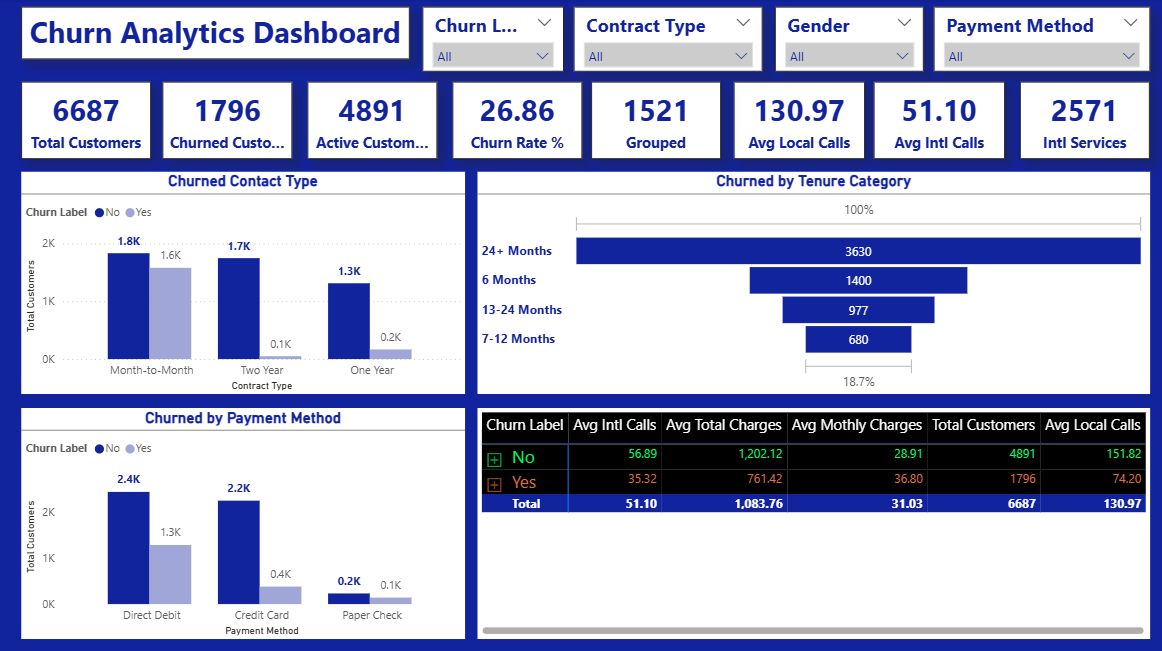

This screenshot's page, from the dashboard's own definition file:
{"tool":"powerbi","page":{"name":"Churn Analytics","canvas":[1280,720],"ordinal":0},"visuals":[{"type":"textbox","box":[23.3,9.6,426.8,57.6],"z":0},{"type":"slicer","fields":{"Values":["Databel - Data.Churn Label"]},"box":[463.8,9.6,155.1,71.4],"z":1000},{"type":"slicer","fields":{"Values":["Databel - Data.Contract Type"]},"box":[629.8,9.6,207.2,71.4],"z":2000},{"type":"slicer","fields":{"Values":["Databel - Data.Gender"]},"box":[850.8,9.6,163.3,71.4],"z":3000},{"type":"slicer","fields":{"Values":["Databel - Data.Payment Method"]},"box":[1025,9.6,237.4,71.4],"z":4000},{"type":"card","fields":{"Values":["Databel - Data.Total Customers"]},"box":[23.3,91.9,142.7,85.1],"z":5000},{"type":"card","fields":{"Values":["Databel - Data.Churned Customers"]},"box":[178.4,91.9,142.7,85.1],"z":6000},{"type":"card","fields":{"Values":["Databel - Data.Active Customers"]},"box":[337.6,91.9,142.7,85.1],"z":7000},{"type":"card","fields":{"Values":["Databel - Data.Churn Rate %"]},"box":[496.7,91.9,142.7,85.1],"z":8000},{"type":"card","fields":{"Values":["Databel - Data.Avg Local Calls"]},"box":[805.5,91.9,144.1,85.1],"z":9000},{"type":"card","fields":{"Values":["Databel - Data.Avg Intl Calls"]},"box":[959.2,91.9,144.1,85.1],"z":10000},{"type":"card","fields":{"Values":["Databel - Data.Intl Services"]},"box":[1119.7,91.9,142.7,85.1],"z":11000},{"type":"card","fields":{"Values":["Databel - Data.Grouped"]},"box":[649.1,91.9,142.7,85.1],"z":12000},{"type":"clusteredColumnChart","title":"Churned Contact Type","fields":{"Category":["Databel - Data.Contract Type"],"Y":["Databel - Data.Total Customers"],"Series":["Databel - Data.Churn Label"]},"box":[23.3,190.7,487.1,244.3],"z":13000},{"type":"clusteredColumnChart","title":"Churned by Payment Method","fields":{"Y":["Databel - Data.Total Customers"],"Series":["Databel - Data.Churn Label"],"Category":["Databel - Data.Payment Method"]},"box":[23.3,450.1,487.1,253.9],"z":14000},{"type":"funnel","title":"Churned by Tenure Category","fields":{"Category":["Databel - Data.Tenure Category"],"Y":["Databel - Data.Total Customers"]},"box":[524.2,190.7,738.3,244.3],"z":15000},{"type":"pivotTable","title":"Churned by Payment Method","fields":{"Rows":["Databel - Data.Churn Label","Databel - Data.Contract Type","Databel - Data.Gender"],"Values":["Databel - Data.Avg Intl Calls","Databel - Data.Avg Total Charges","Databel - Data.Avg Mothly Charges","Databel - Data.Total Customers","Databel - Data.Avg Local Calls"]},"box":[524.2,450.1,738.3,253.9],"z":16000}]}

Visuals, with their boxes in screenshot pixels (x1, y1, x2, y2), scaled from the page's 1280x720 canvas onto the 1162x651 screenshot:
textbox: (21, 9, 409, 61)
slicer - Databel - Data.Churn Label: (421, 9, 562, 73)
slicer - Databel - Data.Contract Type: (572, 9, 760, 73)
slicer - Databel - Data.Gender: (772, 9, 921, 73)
slicer - Databel - Data.Payment Method: (931, 9, 1146, 73)
card - Databel - Data.Total Customers: (21, 83, 151, 160)
card - Databel - Data.Churned Customers: (162, 83, 291, 160)
card - Databel - Data.Active Customers: (306, 83, 436, 160)
card - Databel - Data.Churn Rate %: (451, 83, 580, 160)
card - Databel - Data.Avg Local Calls: (731, 83, 862, 160)
card - Databel - Data.Avg Intl Calls: (871, 83, 1002, 160)
card - Databel - Data.Intl Services: (1016, 83, 1146, 160)
card - Databel - Data.Grouped: (589, 83, 719, 160)
"Churned Contact Type" clusteredColumnChart: (21, 172, 463, 393)
"Churned by Payment Method" clusteredColumnChart: (21, 407, 463, 637)
"Churned by Tenure Category" funnel: (476, 172, 1146, 393)
"Churned by Payment Method" pivotTable: (476, 407, 1146, 637)
